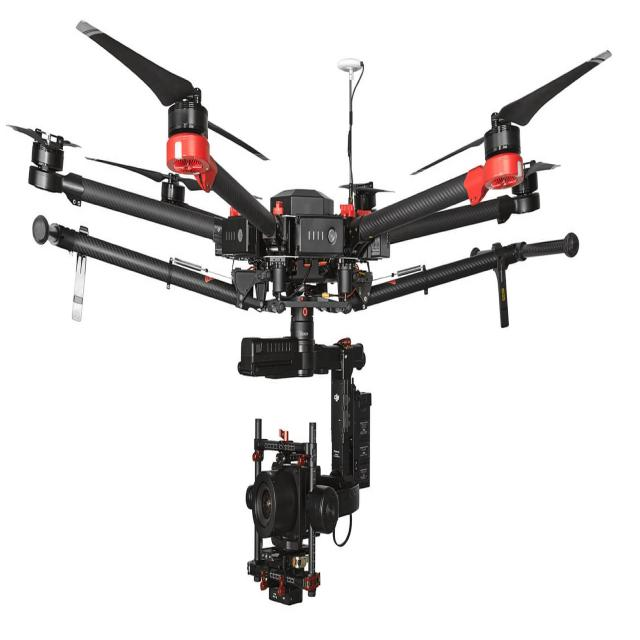drone: (7, 15, 618, 606)
